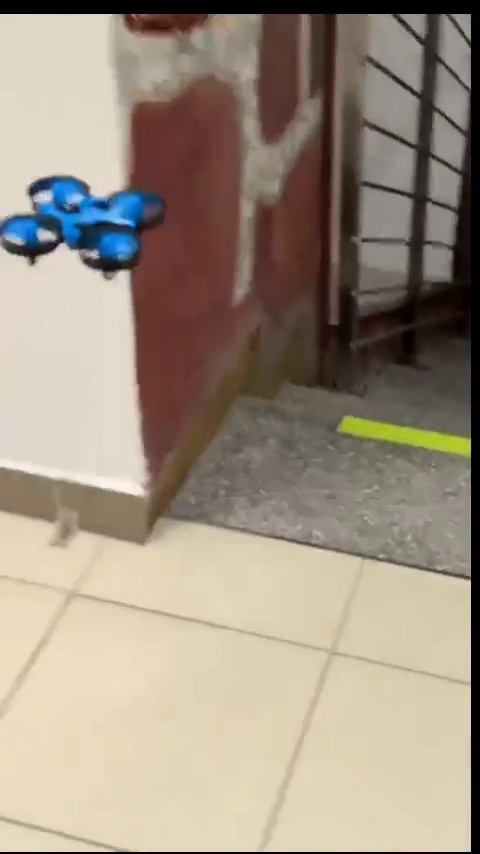drone: (3, 171, 182, 282)
